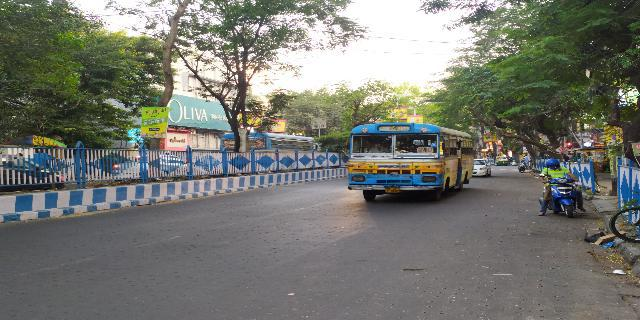Bus: (338, 117, 482, 201)
Motorbike: (533, 160, 586, 217)
